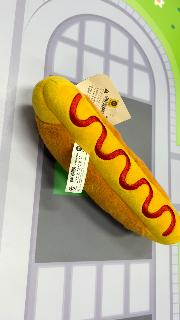hotdog: (33, 75, 180, 245)
